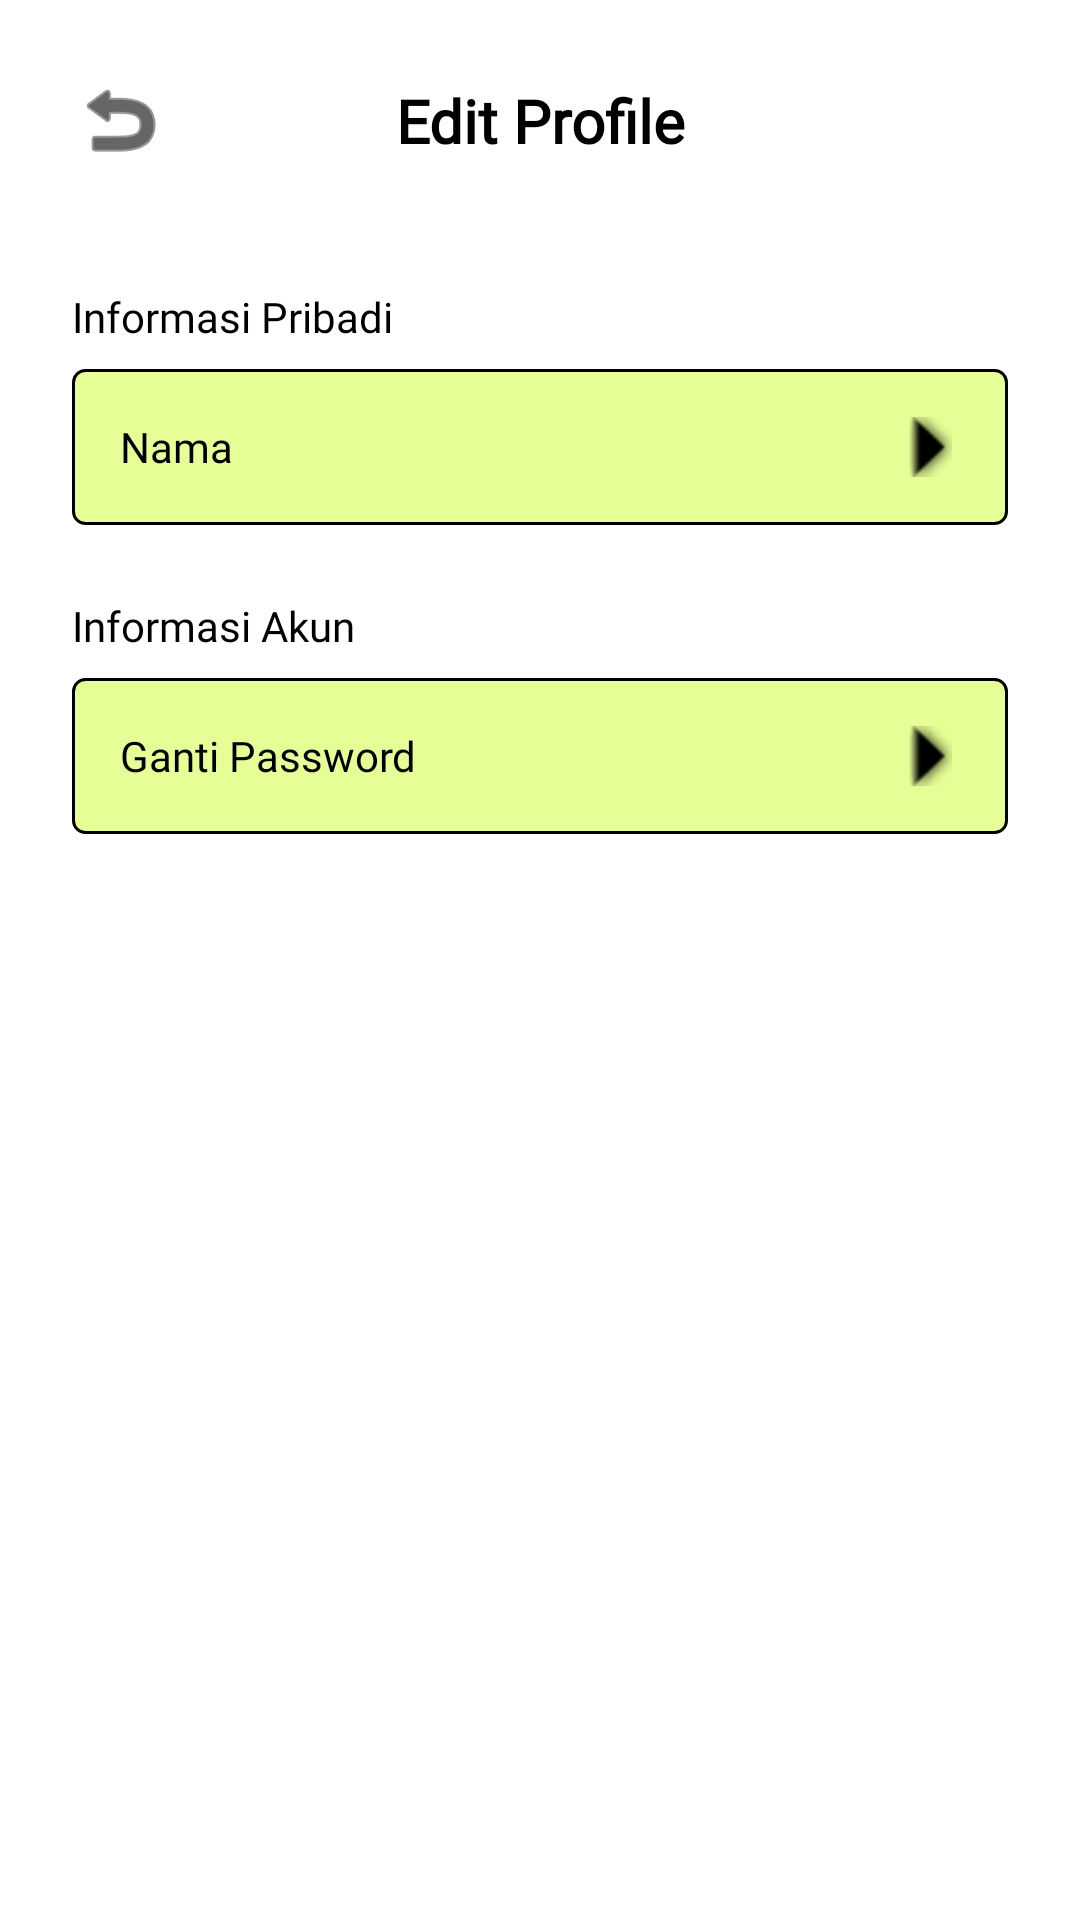

Named icons in this screenshot (1080×1920) and their bounding boxes, (x1, y1, x2, y2):
Kembali: (87, 89, 156, 152)
